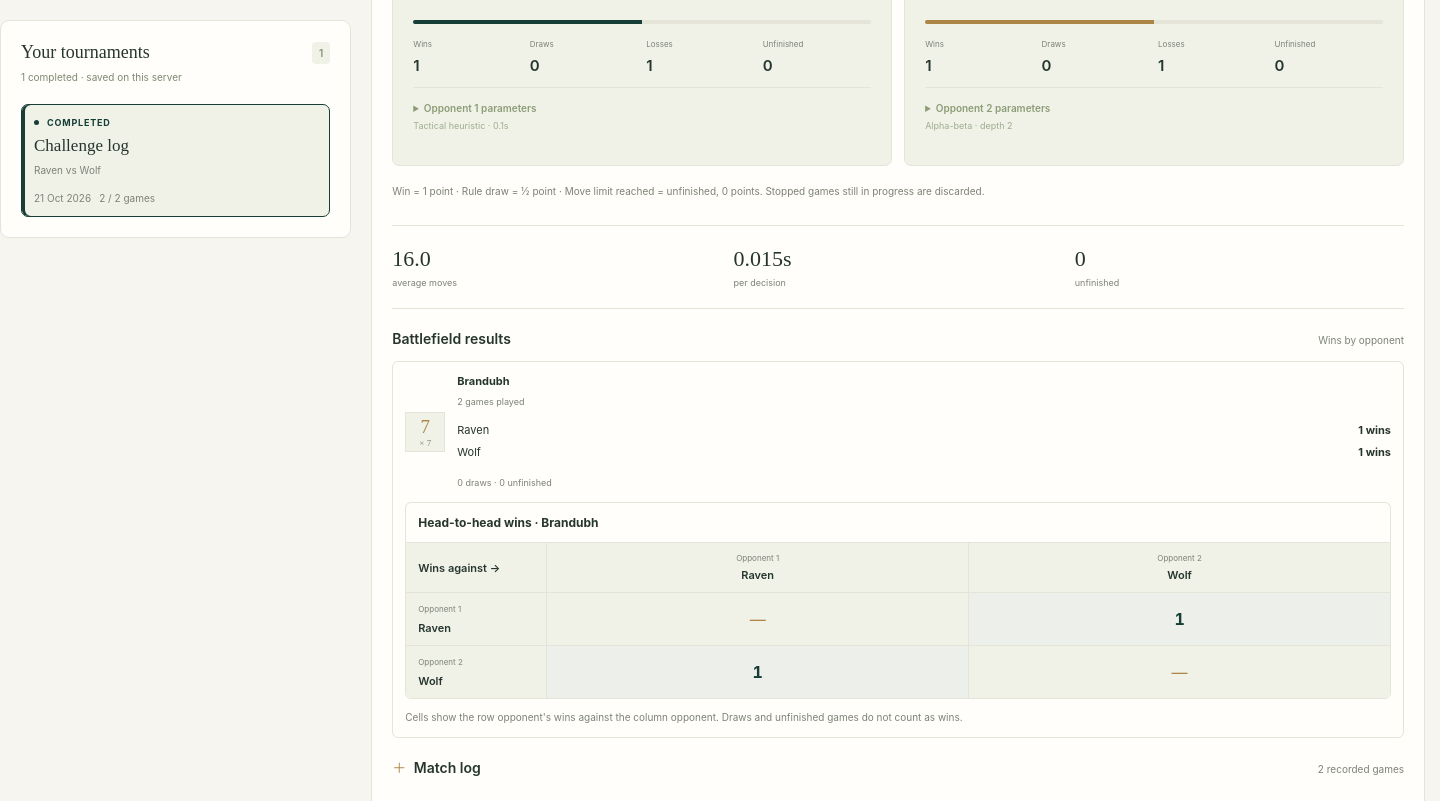
Test: tournament match log disclosure › starts collapsed and expands and collapses the recorded matches
The image size is (1440, 801).
(page scrolled)
Expected: the text "Raven wins" is not shown
Step 1. Click the button "＋ Match log" → click(437, 768), box [392, 758, 481, 777]
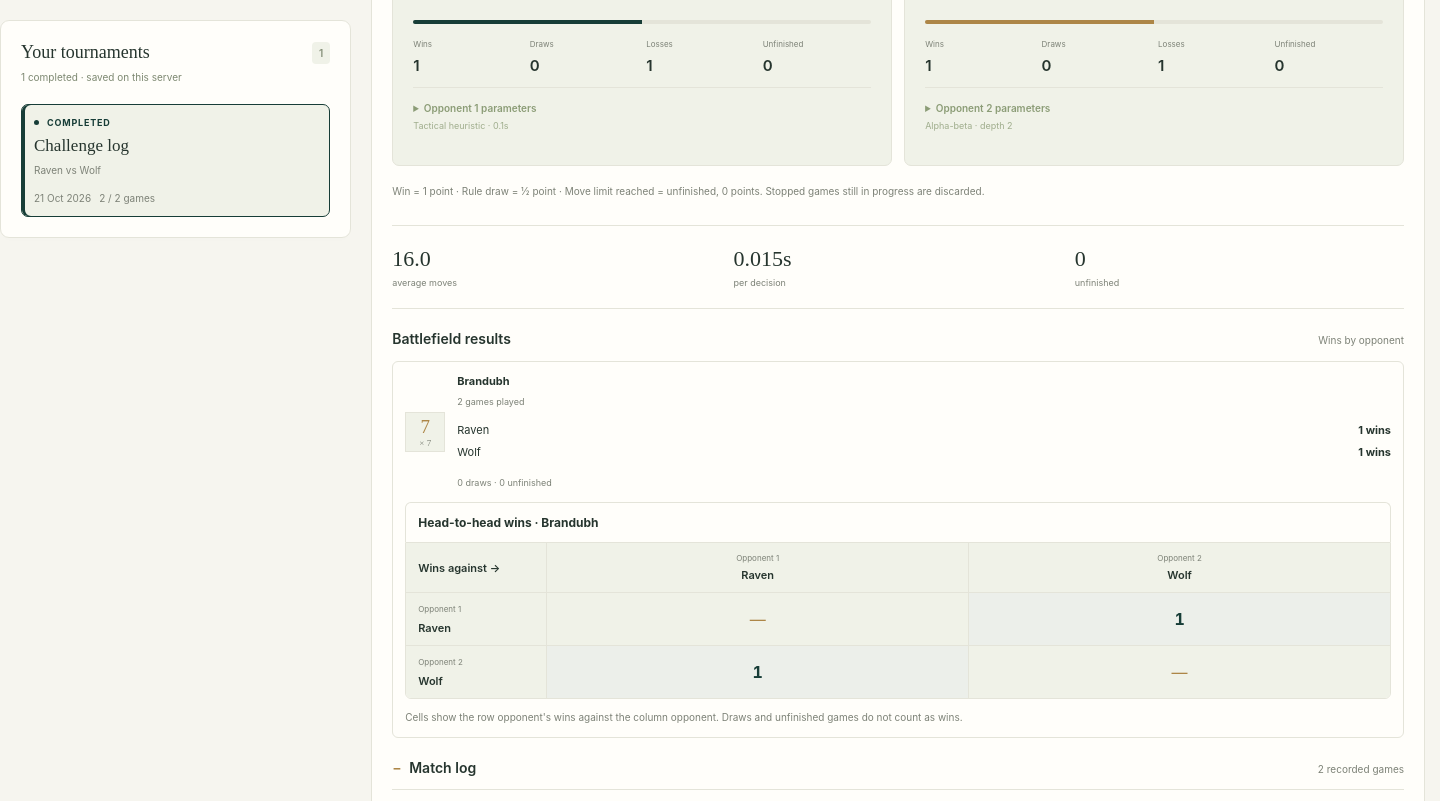
Expected: the button "− Match log" is expanded
Step 2. Click the button "− Match log" → click(434, 768), box [392, 758, 476, 777]
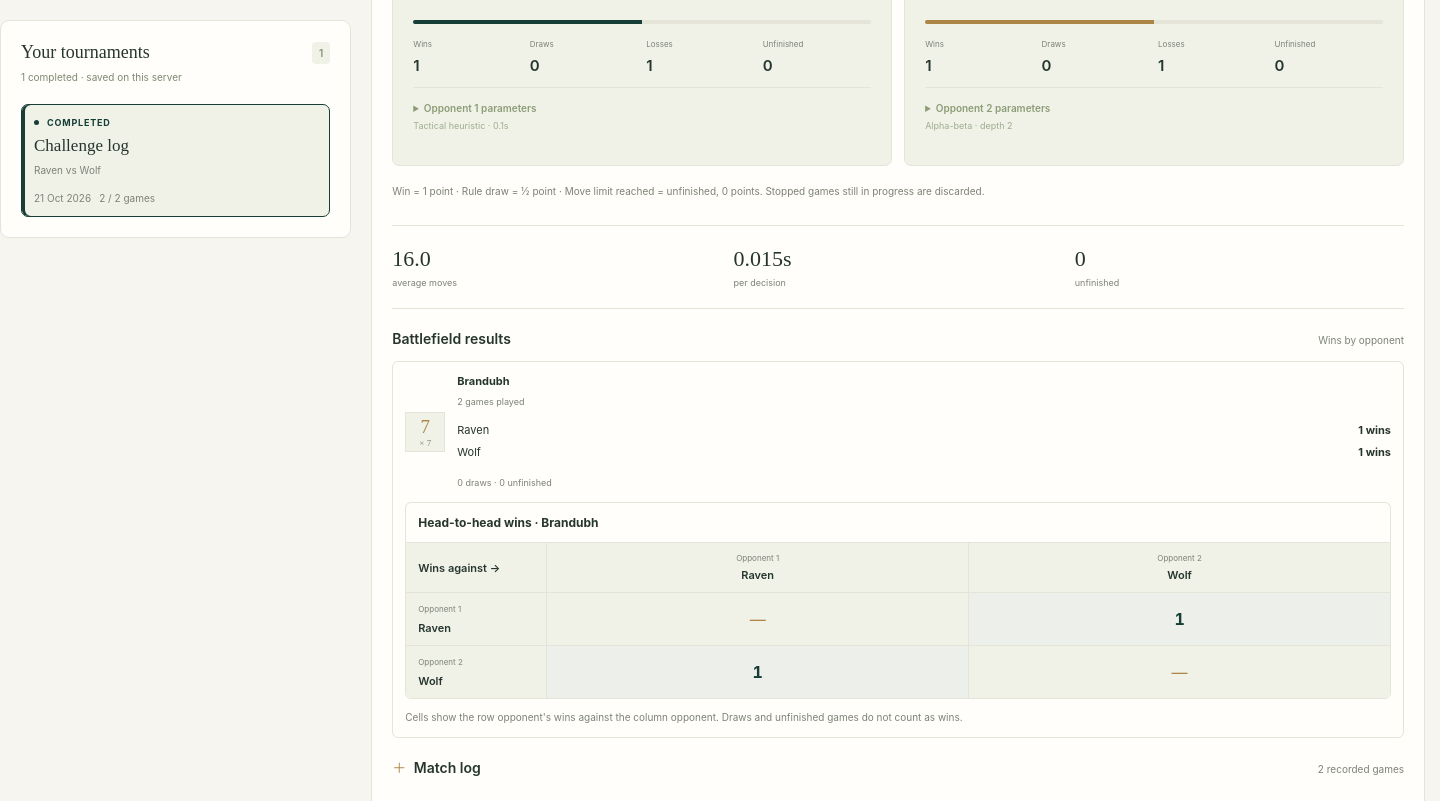
Expected: the button "＋ Match log" is collapsed, [392, 758, 481, 777]
